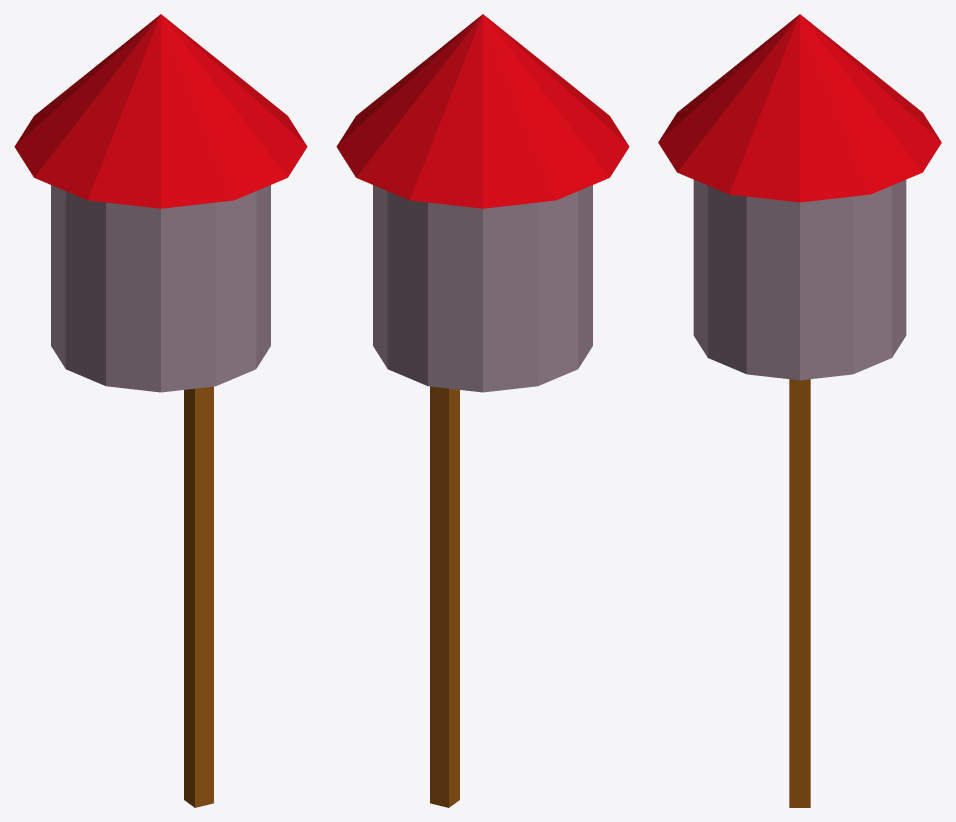
The model's file is Firework Rocket_3DModel_2.fbx.
The picture shows the model from 3 angles, left to right: view 1: azimuth 30°, elevation 25°; view 2: azimuth 150°, elevation 25°; view 3: azimuth 270°, elevation 25°; orthographic projection. The views are drawn at different scales.
Visible parts, largest first — view 1: Rocket Body, Stick; view 2: Rocket Body, Stick; view 3: Rocket Body, Stick.
Boxes of the visible parts, x1,y1,x2,y2 form: Rocket Body: (14, 14, 307, 392); Stick: (184, 386, 213, 807); Rocket Body: (336, 14, 629, 392); Stick: (430, 386, 459, 807); Rocket Body: (658, 14, 941, 380); Stick: (789, 379, 810, 807).
Bounding box in the file's own units: 0.2 × 0.6 × 0.2.
